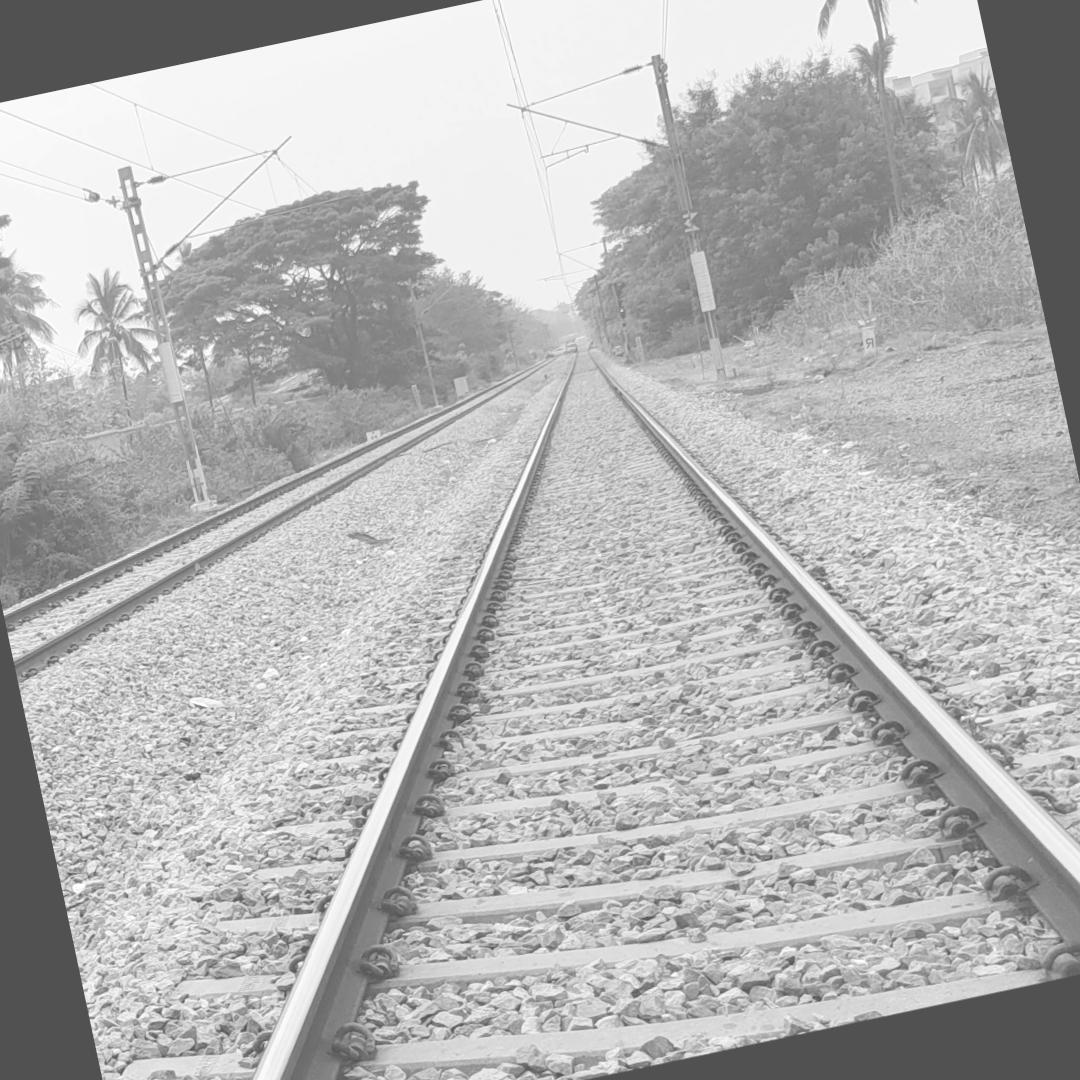track: (90, 331, 1080, 1080)
